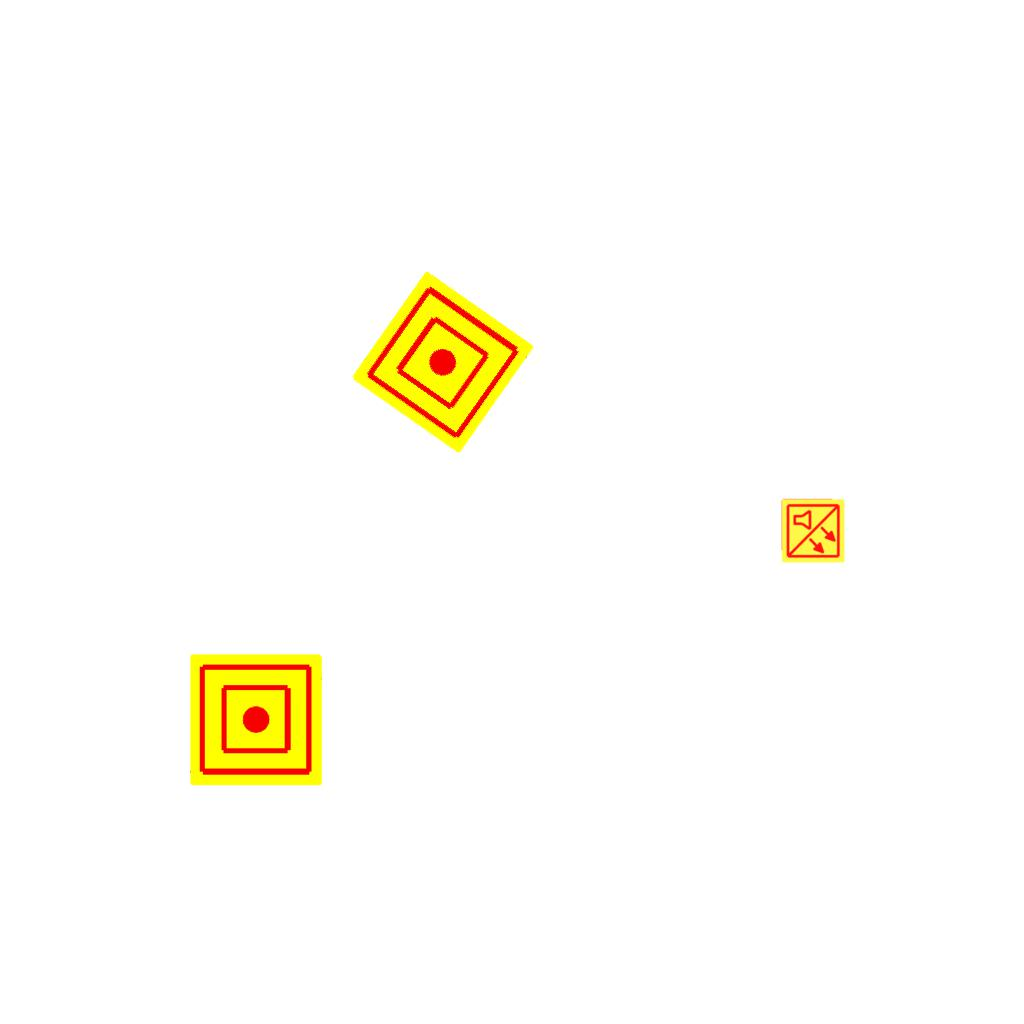NAM-Nichtautomatischer_Melder: (351, 270, 535, 454), (190, 654, 322, 786)
OKW_Multisensormelder_(Kombination_optischer_Rauch-Kahlenmonoxid_Waerme-Melder): (780, 498, 846, 564)
